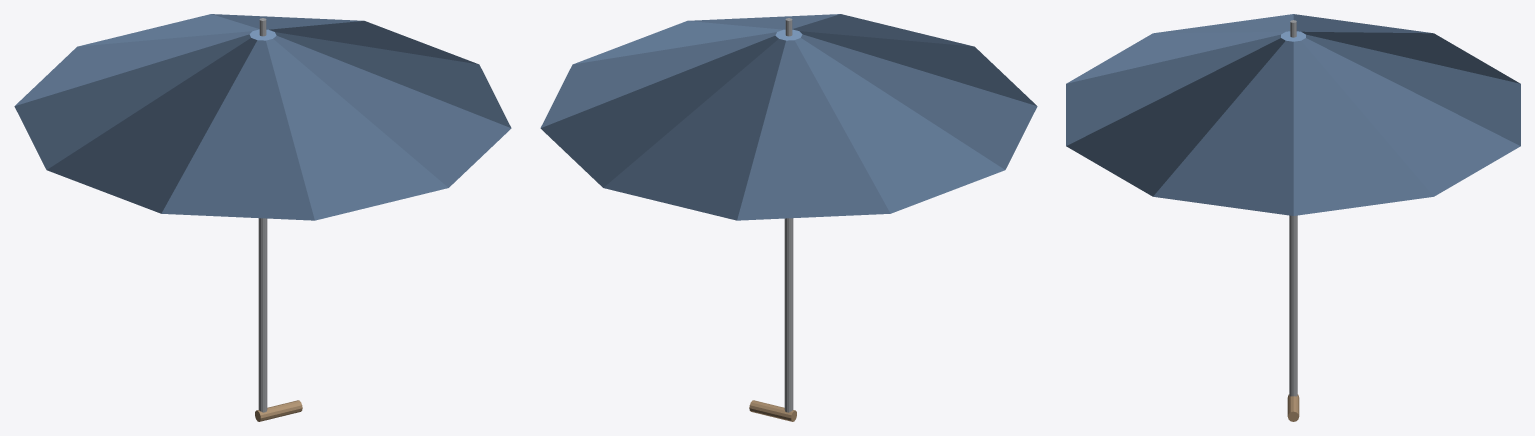
The model's file is umbrella.glb.
The picture shows the model from 3 angles, left to right: view 1: azimuth 30°, elevation 25°; view 2: azimuth 150°, elevation 25°; view 3: azimuth 270°, elevation 25°; orthographic projection. The views are drawn at different scales.
Visible parts, largest first — view 1: umbrella; view 2: umbrella; view 3: umbrella.
Boxes of the visible parts, bbox=[...] form: umbrella: bbox=[14, 14, 511, 421]; umbrella: bbox=[540, 14, 1037, 421]; umbrella: bbox=[1066, 14, 1520, 421].
Bounding box in the file's own units: 0.88 × 0.7785 × 0.8369.
